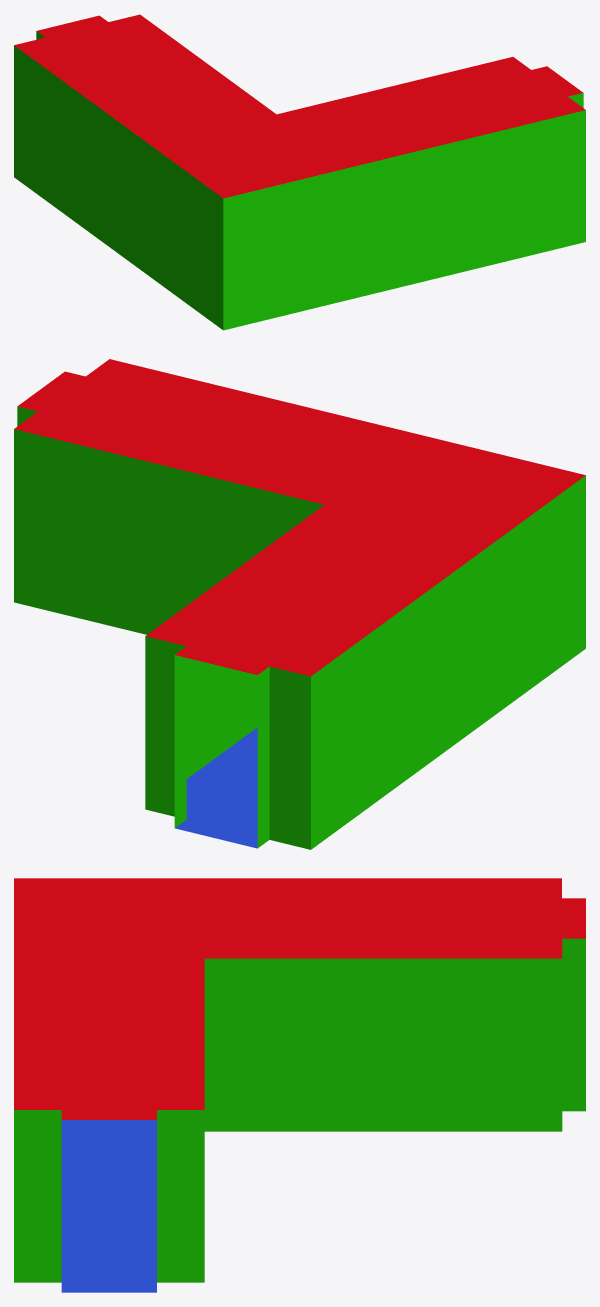
Rendered from Corridor_3U_Left.fbx.
3 views of the same model, one above another, from view 1: azimuth 30°, elevation 25°; view 2: azimuth 150°, elevation 25°; view 3: azimuth 270°, elevation 25° (orthographic). The views are drawn at different scales.
Visible parts, largest first — view 1: Corridor 3U Left; view 2: Corridor 3U Left; view 3: Corridor 3U Left.
Part boxes in pixels (box(x1,y1,x2,y2)): Corridor 3U Left: box(14, 14, 585, 330); Corridor 3U Left: box(14, 359, 585, 849); Corridor 3U Left: box(14, 878, 585, 1292).
Bounding box in the file's own units: 2400 × 800 × 2400.
